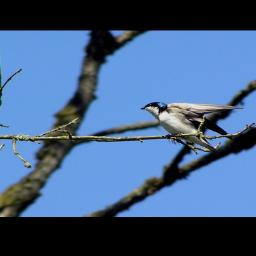Swallow: (140, 100, 244, 156)
